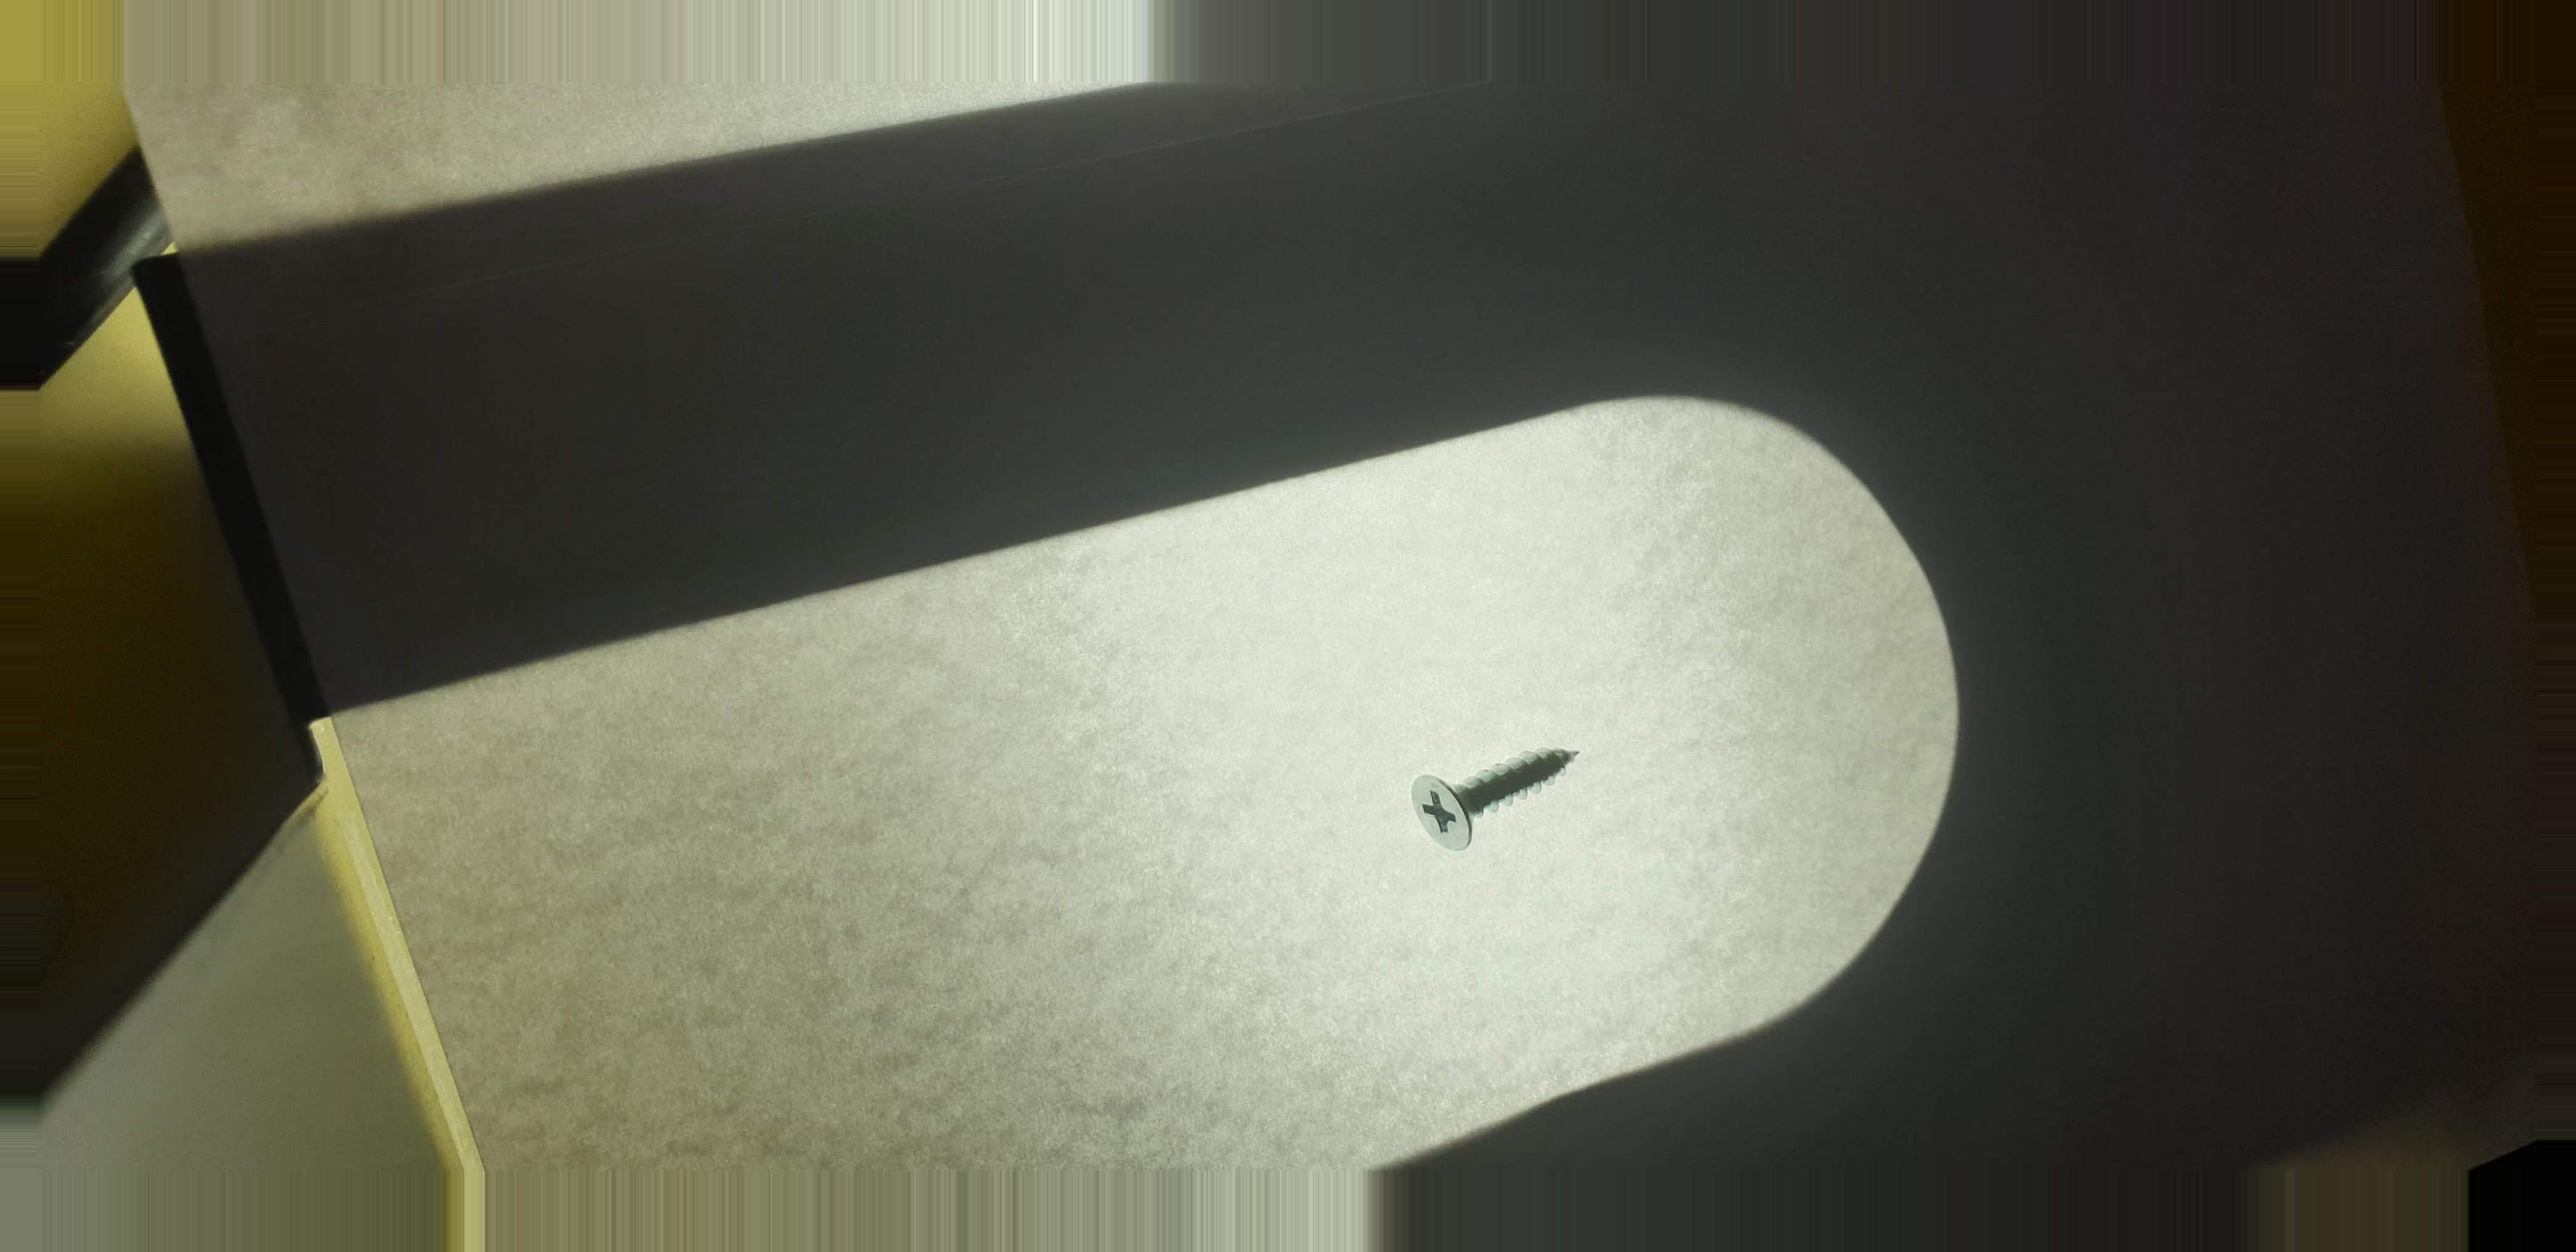S003: (1388, 721, 1602, 868)
